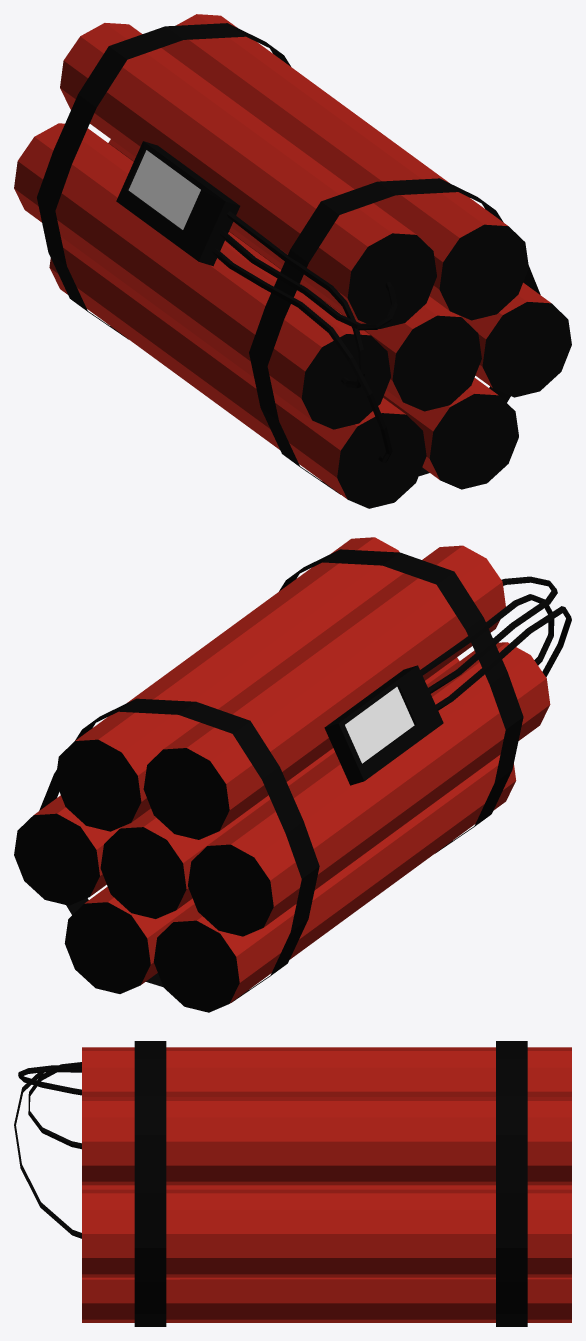
Rendered from TNT 2.fbx.
3 views of the same model, one above another, from view 1: azimuth 30°, elevation 25°; view 2: azimuth 150°, elevation 25°; view 3: azimuth 270°, elevation 25° (orthographic). The views are drawn at different scales.
Parts seen in each view (by area): view 1: TNT; view 2: TNT; view 3: TNT.
Boxes of the visible parts, bbox=[...] form: TNT: bbox=[14, 14, 571, 508]; TNT: bbox=[14, 537, 571, 1012]; TNT: bbox=[14, 1041, 571, 1326].
Size of the model in its own units: 0.4237 by 0.4194 by 0.8645.
